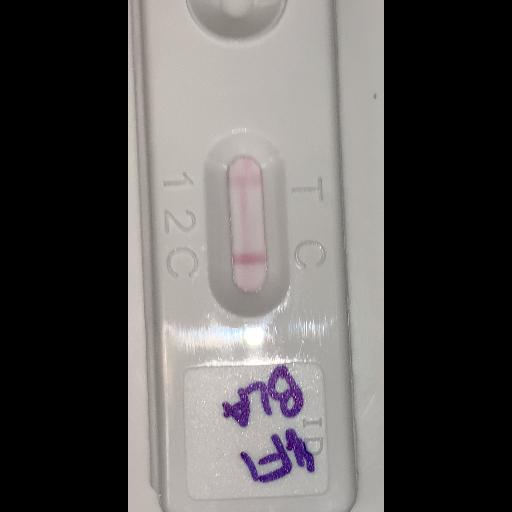Pos: (133, 0, 354, 509)
